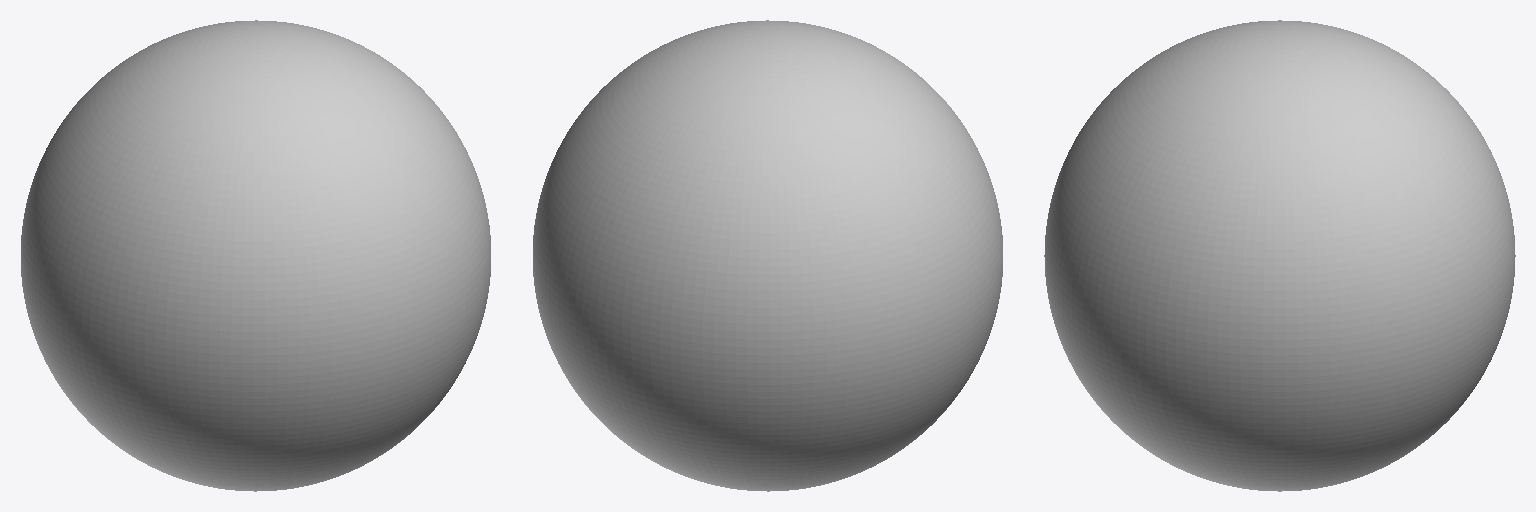
The model's file is earth.obj.
3 views of the same model, side by side, from view 1: azimuth 30°, elevation 25°; view 2: azimuth 150°, elevation 25°; view 3: azimuth 270°, elevation 25° (orthographic).
Parts seen in each view (by area): view 1: Sphere_Sphere.001; view 2: Sphere_Sphere.001; view 3: Sphere_Sphere.001.
Part boxes in pixels (x1,y1,x2,y2): Sphere_Sphere.001: (21, 20, 490, 491); Sphere_Sphere.001: (533, 20, 1002, 491); Sphere_Sphere.001: (1044, 20, 1515, 491).
Size of the model in its own units: 6 by 6 by 6.